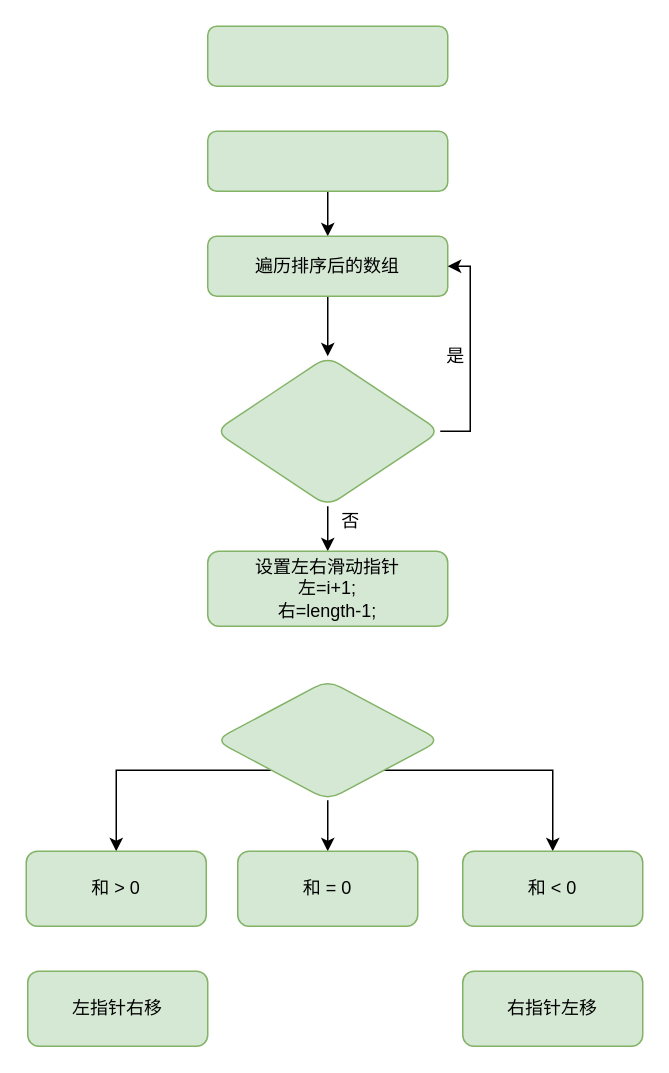
Image size: 669x1073. Some labels were removed from this diagram. The centre of each missing label's shape, as x and y in pixels:
初始化 保存最终结果的容器: [327,55]
当前元素是否 与上一个元素相同: [327,430]
数组排序: [327,160]
计算三个数的和 ？ 0: [327,739]
